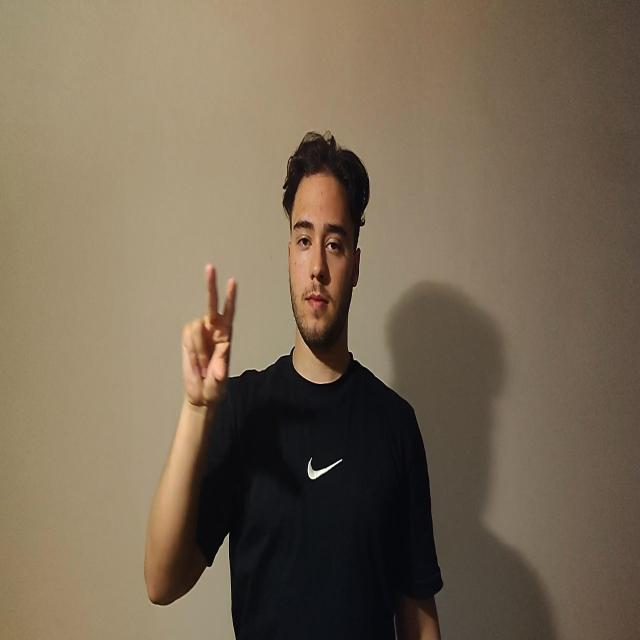no: (181, 262, 237, 408)
